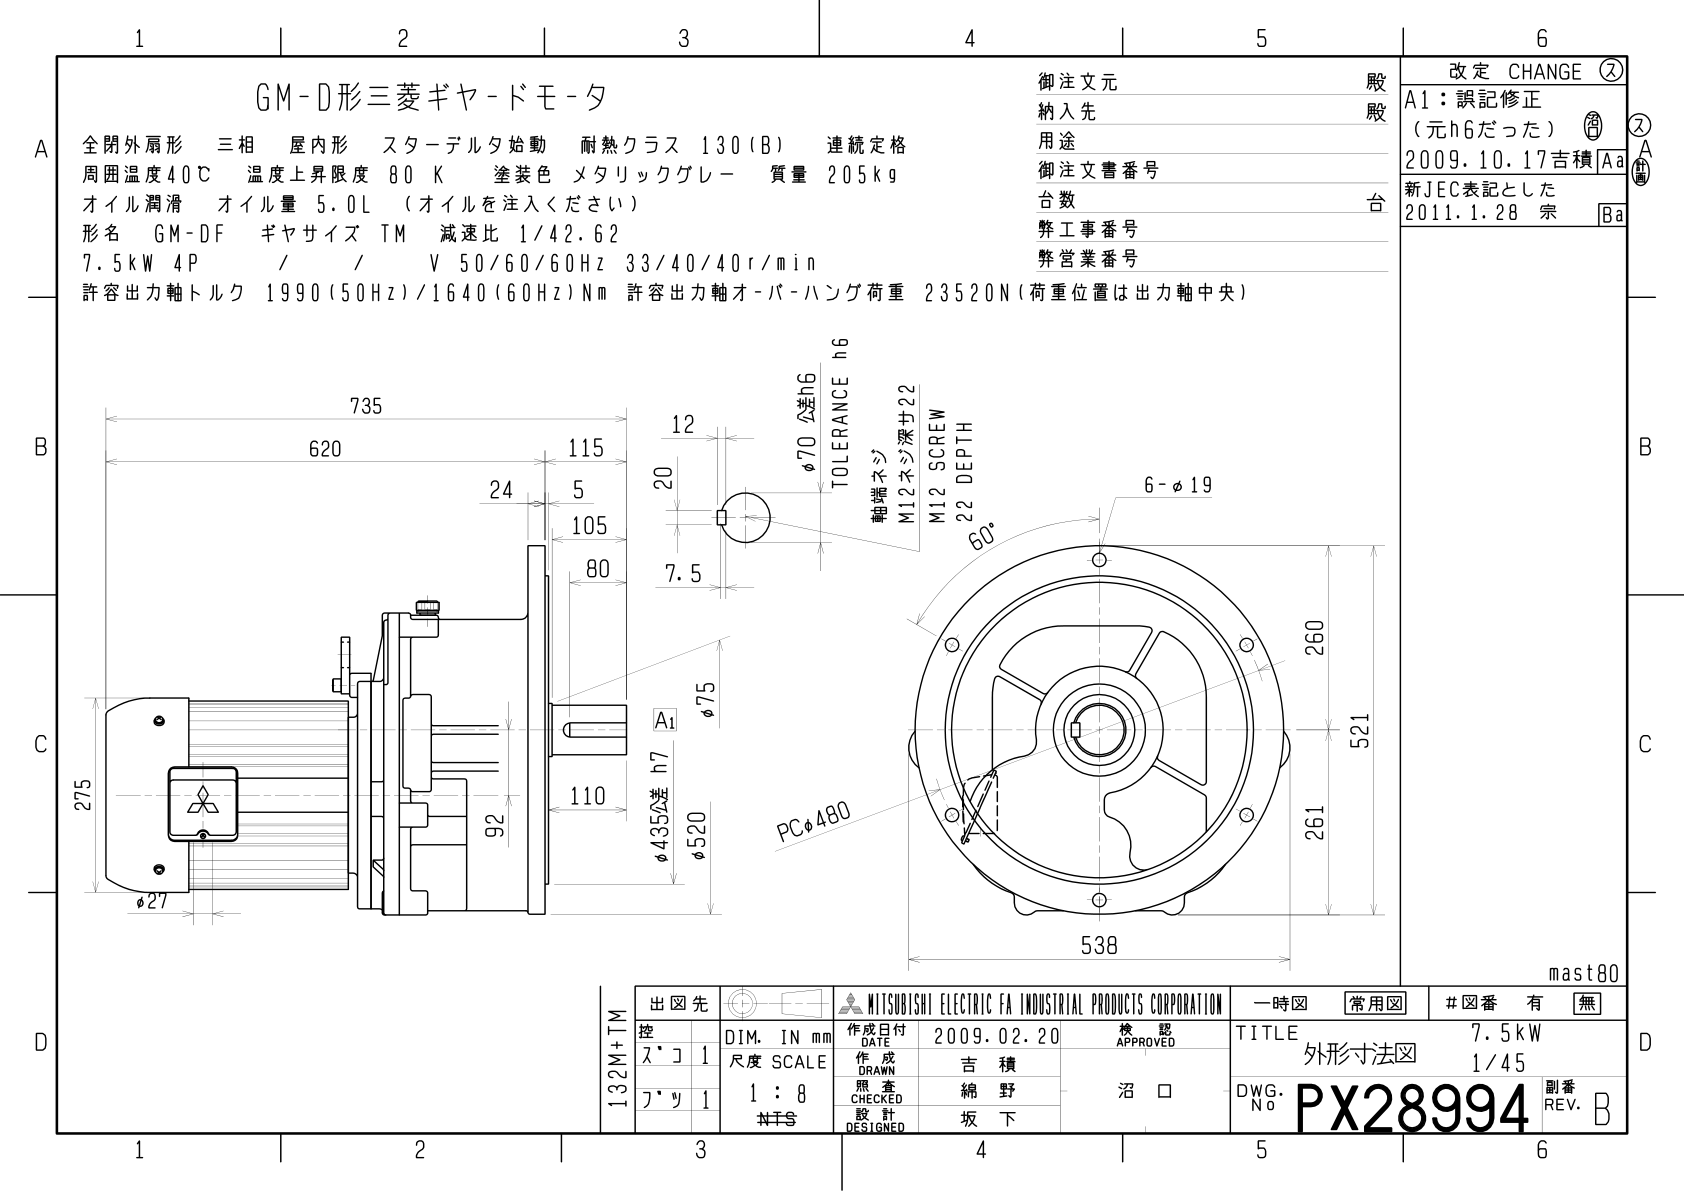GM_D_屋内＿三相_フランジ: (70, 312, 1389, 980)
